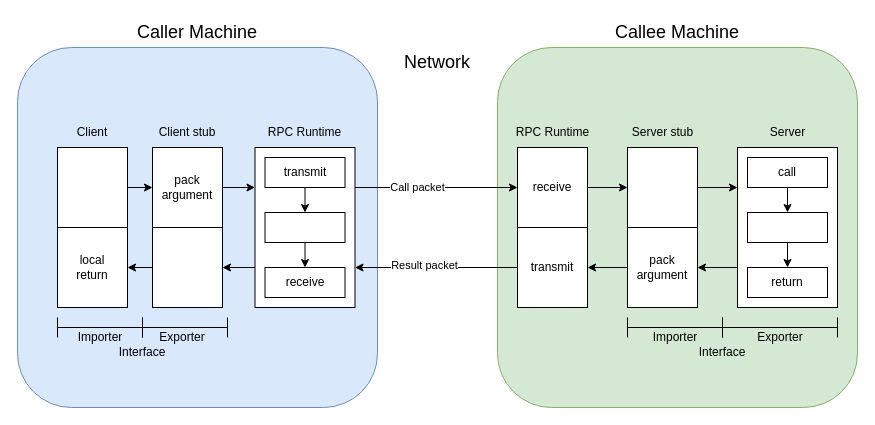
Image size: 875x425. Some labels were removed from this diagram. Here are the shapes that lost their labels. From the top down, the centre of each, then its label:
(92,187): local call
(662,187): unpack argument
(304,227): wait
(787,227): work
(187,267): unpack result
